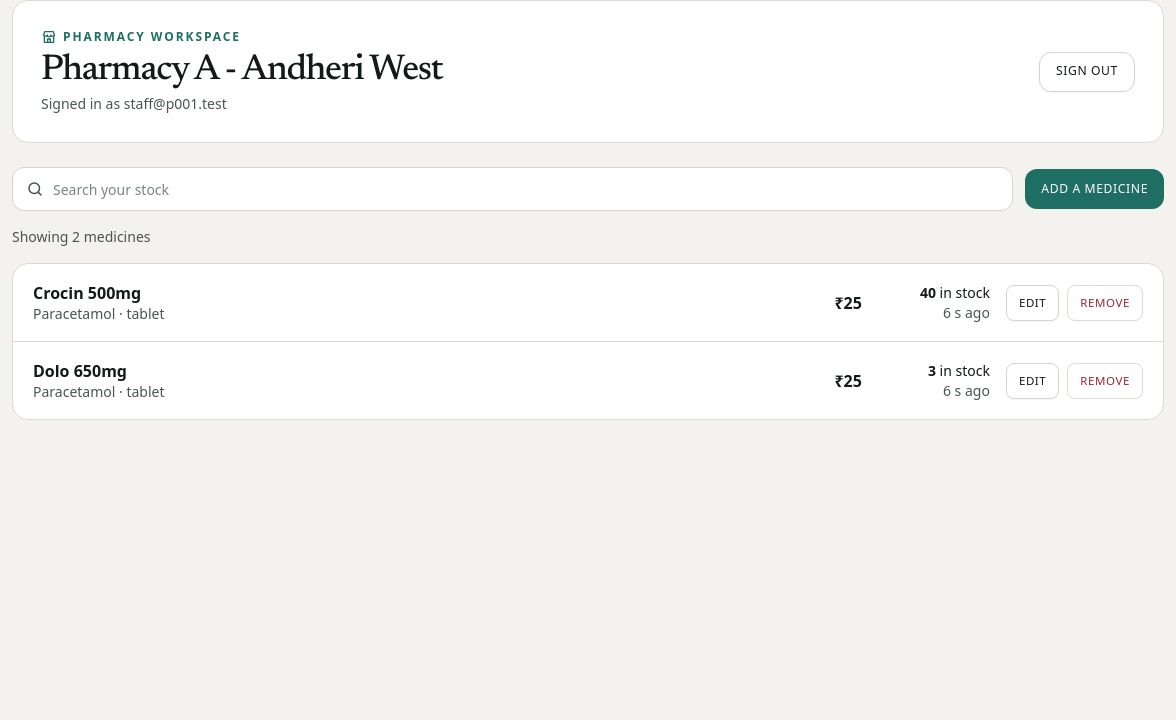
Test: PortalPage › goes back to sign-in when the session has ended
Click the button with aria-label "Edit Crocin 500mg" at (1033, 303), box [1006,285,1059,321]
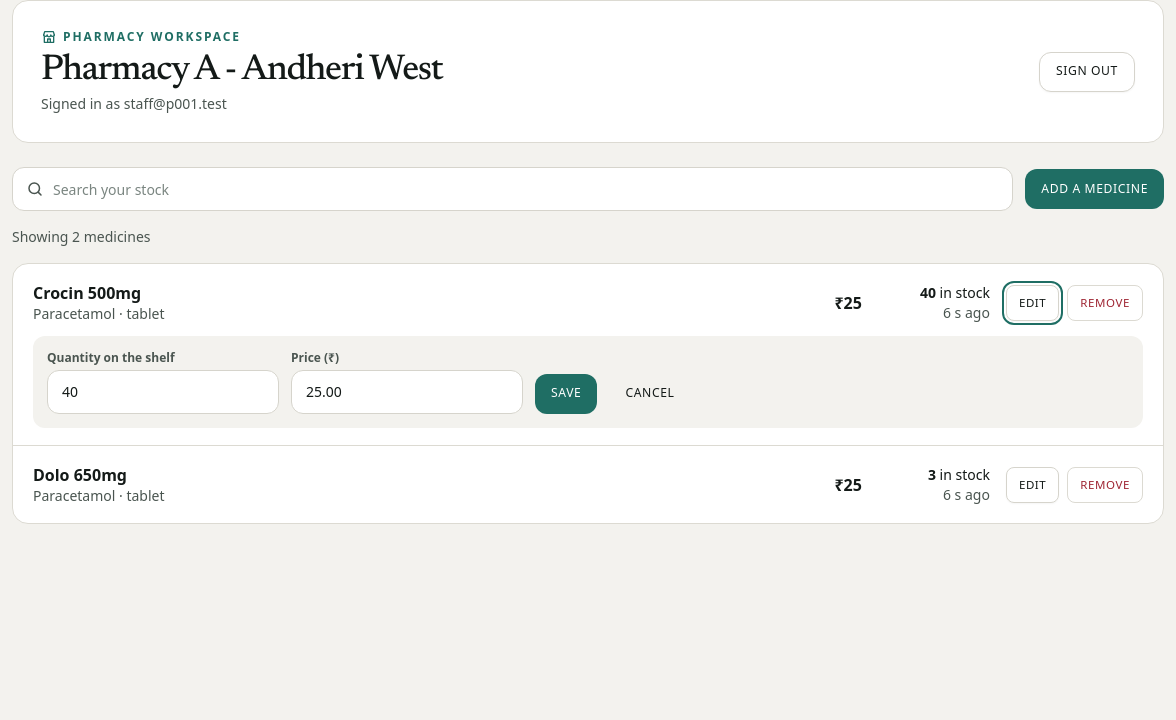
Replace the text in the number field labelled "Quantity on the shelf" with "1" at (163, 392), box [47,370,279,414]
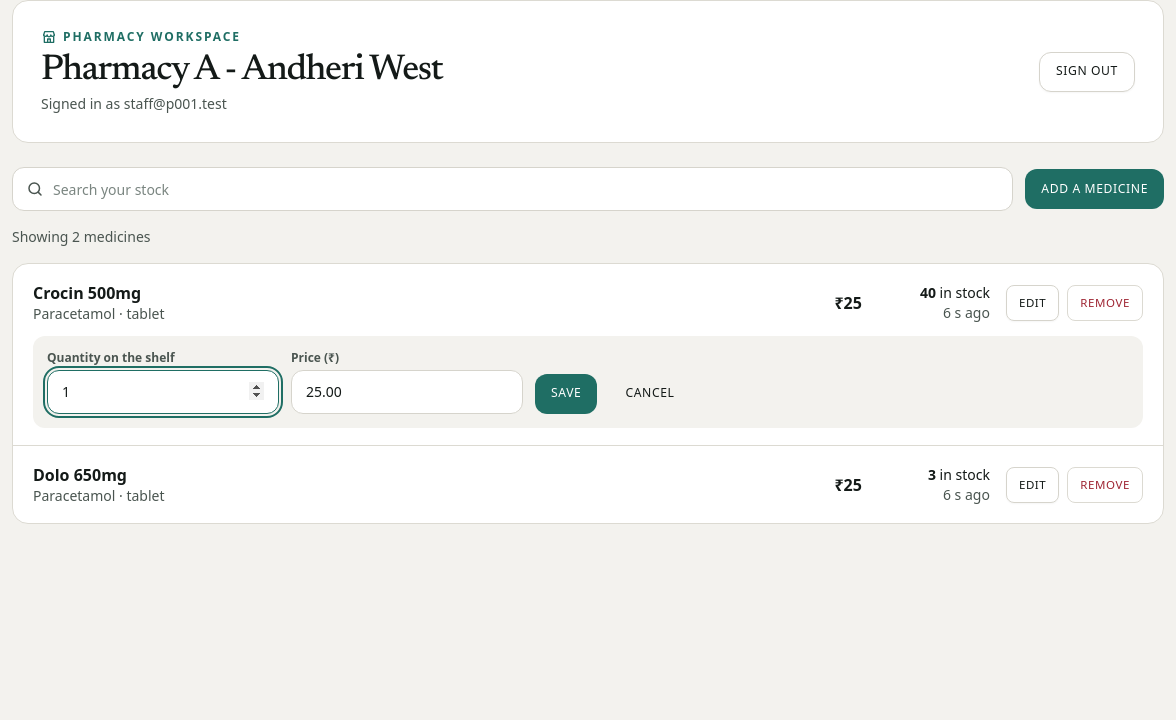
Click the button "Save" at (566, 394), box [535,374,598,414]
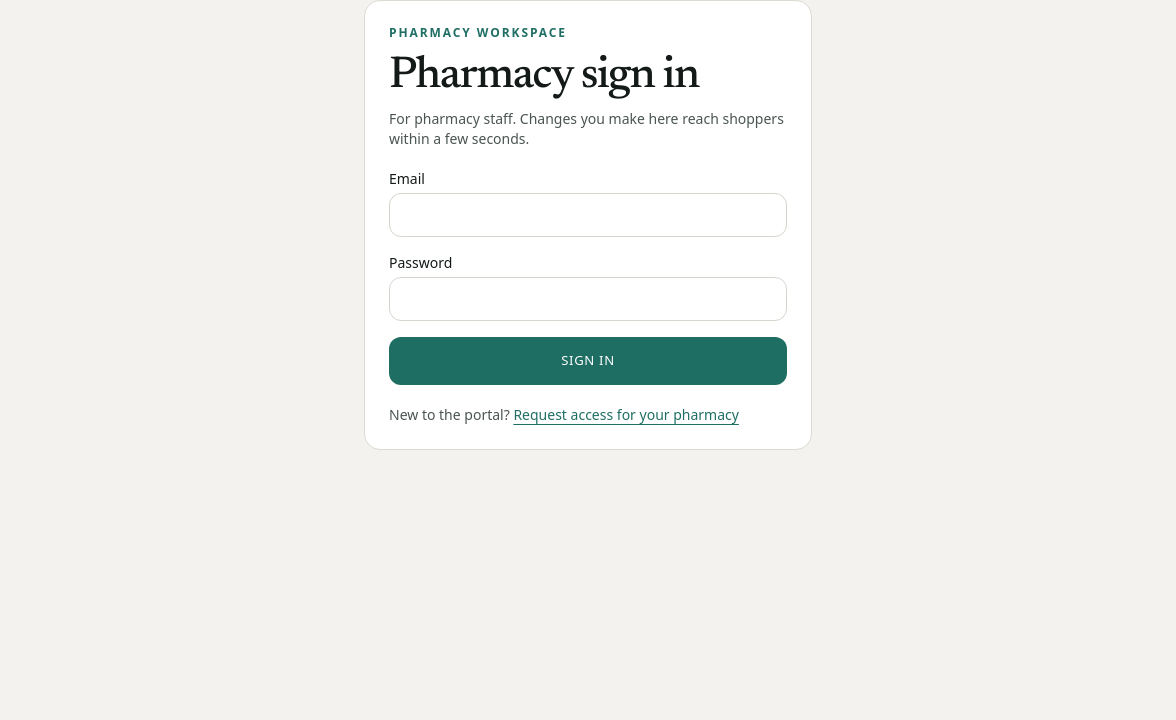
Check: the password field labelled "Password" is shown, box [389,277,787,321]
